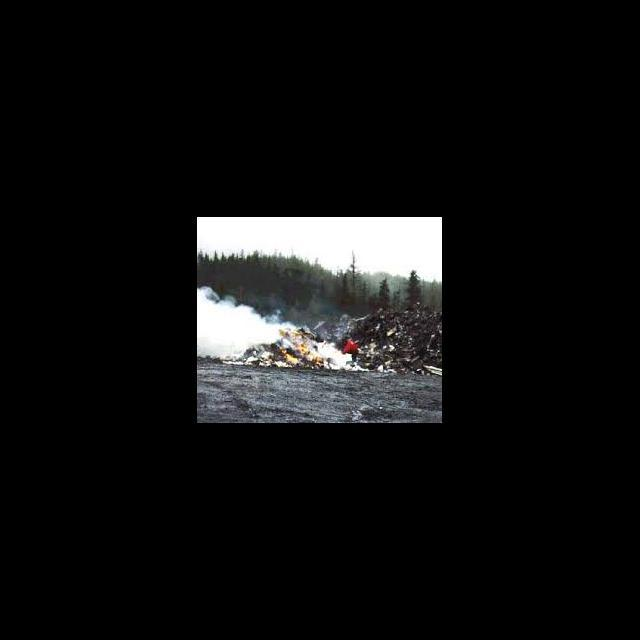Fire: (280, 326, 326, 370)
Smoke: (198, 287, 276, 365)
